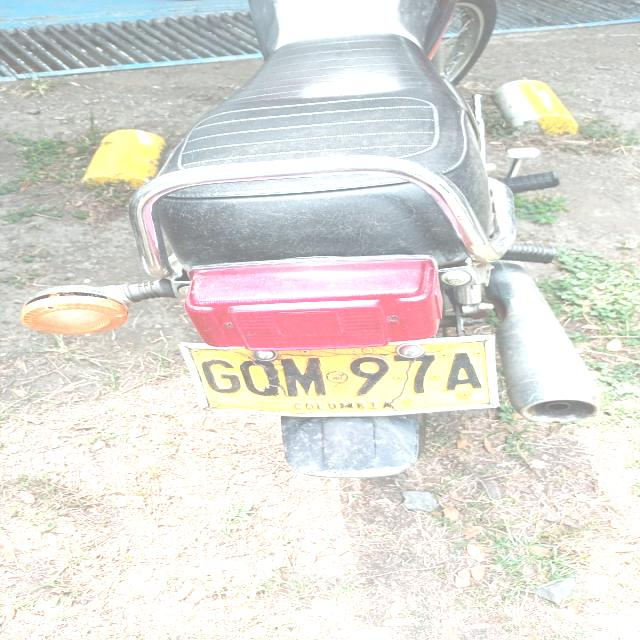placa: (196, 340, 495, 413)
